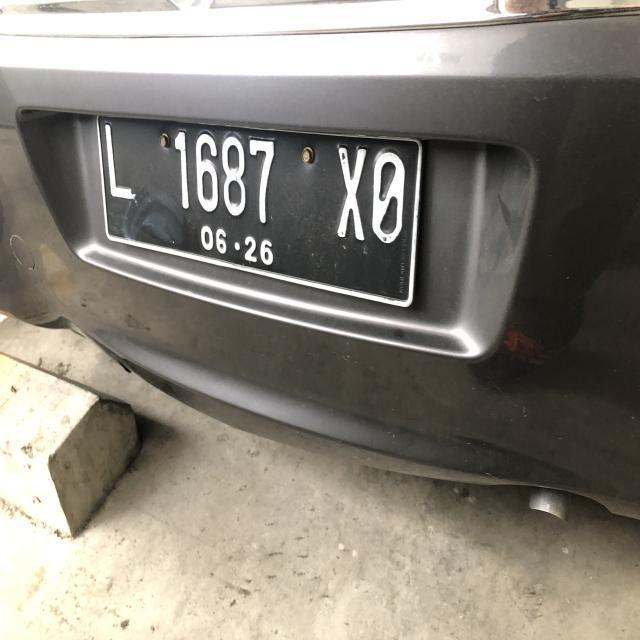1: (172, 126, 195, 208)
6: (195, 132, 219, 216)
7: (249, 136, 279, 230)
8: (222, 132, 246, 225)
L: (97, 120, 145, 214)
O: (373, 146, 407, 246)
X: (333, 133, 367, 247)
